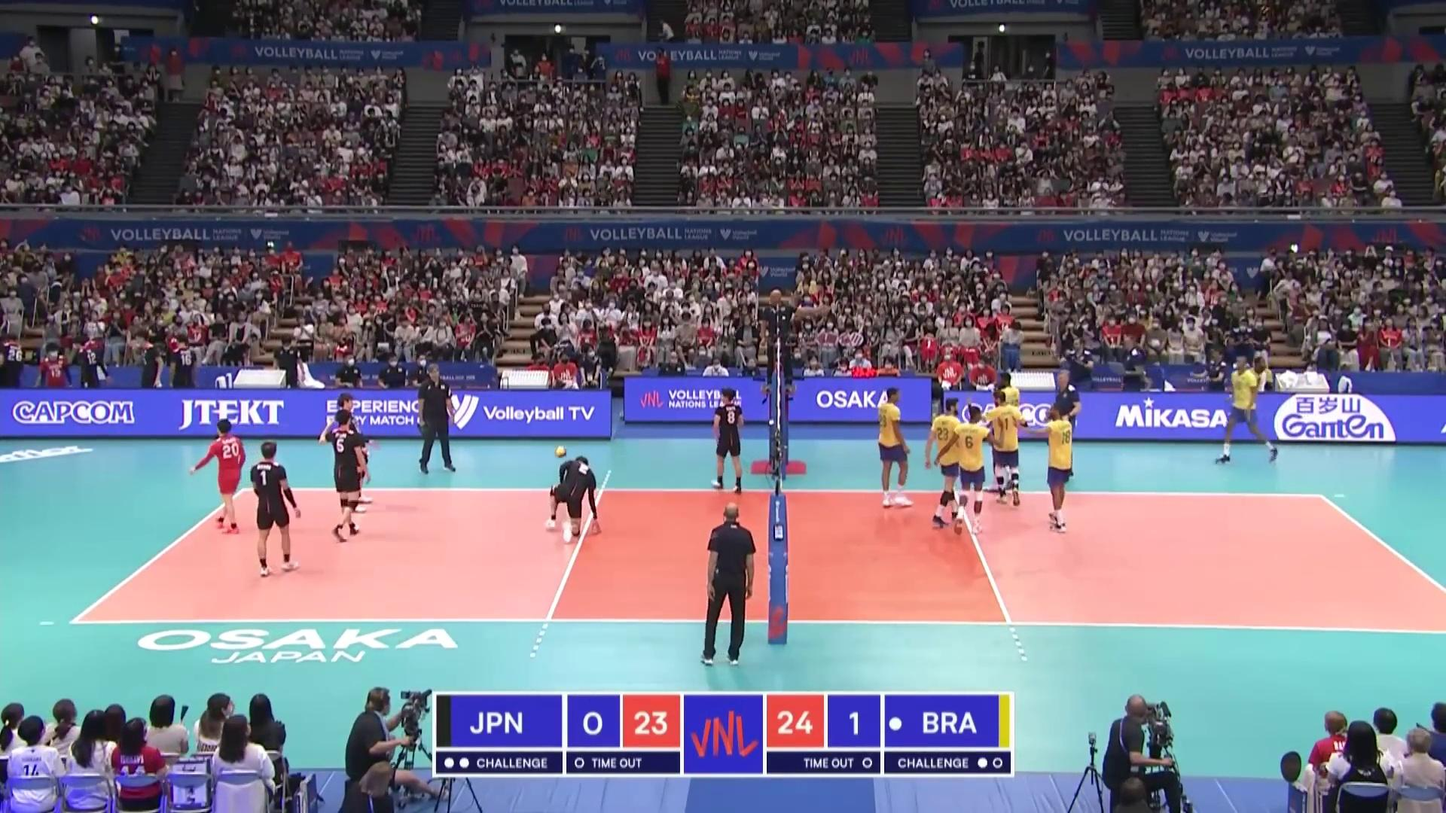player: (247, 440, 300, 574), (946, 406, 997, 537), (1218, 356, 1276, 466), (191, 421, 248, 531), (322, 414, 367, 540), (982, 390, 1026, 509), (333, 394, 374, 517), (541, 454, 599, 540), (1039, 398, 1075, 531), (875, 386, 912, 510), (929, 397, 962, 527), (988, 373, 1019, 492), (712, 388, 746, 493)
refree: (699, 505, 754, 662), (759, 288, 799, 383)
